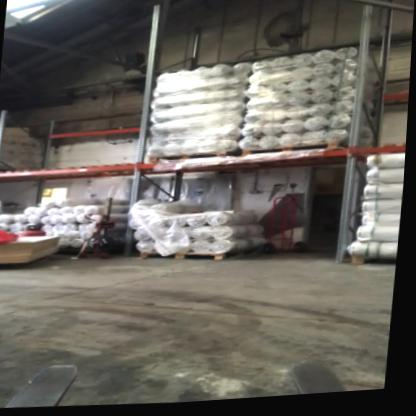vertical_damage: (335, 241, 357, 270)
